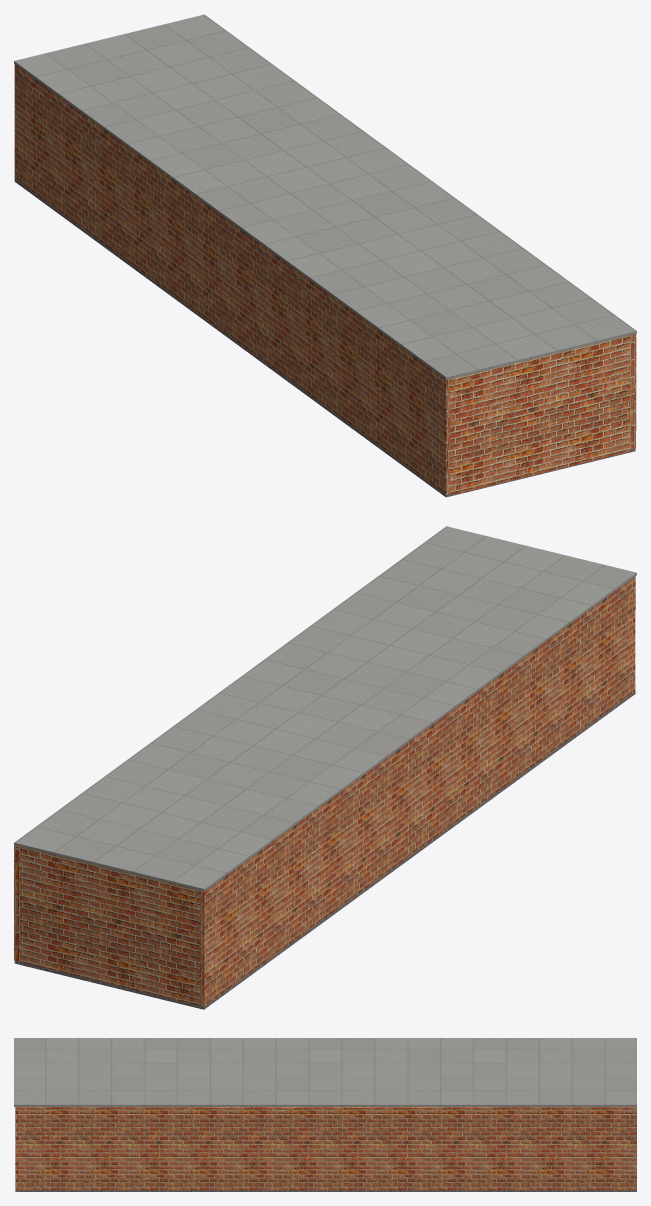
Rendered from maqueta_pasillo_version5 (1).fbx.
3 views of the same model, one above another, from view 1: azimuth 30°, elevation 25°; view 2: azimuth 150°, elevation 25°; view 3: azimuth 270°, elevation 25° (orthographic). The views are drawn at different scales.
Parts seen in each view (by area): view 1: Techo, Paredes, Piso; view 2: Techo, Paredes, Piso; view 3: Paredes, Techo, Piso.
Boxes of the visible parts, x1,y1,x2,y2 form: Techo: (14,14,636,379); Paredes: (14,64,636,495); Piso: (14,179,635,497); Techo: (14,526,636,891); Paredes: (14,576,635,1006); Piso: (14,691,635,1009); Paredes: (15,1107,636,1190); Techo: (14,1038,636,1106); Piso: (15,1172,636,1191).
Bounding box in the file's own units: 1156 × 710 × 4540.
Materials: 7 (6 with a texture image).
